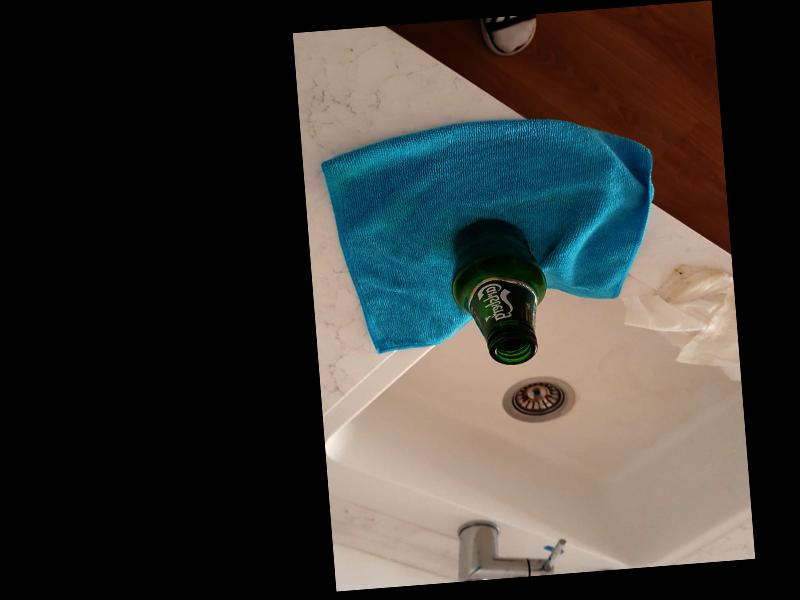Beer: (450, 213, 552, 367)
